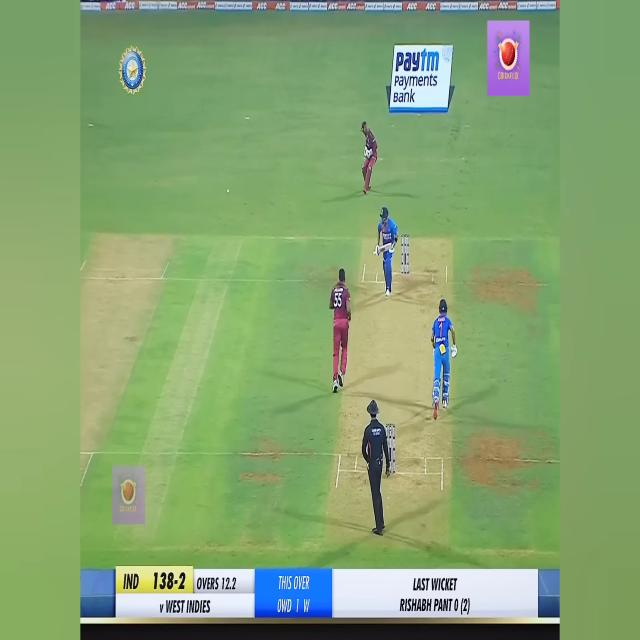fully_visible: (393, 47, 443, 80)
